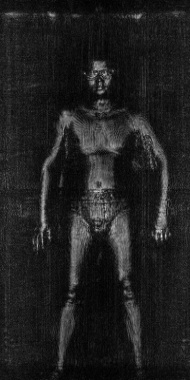gun: (132, 134, 158, 175)
